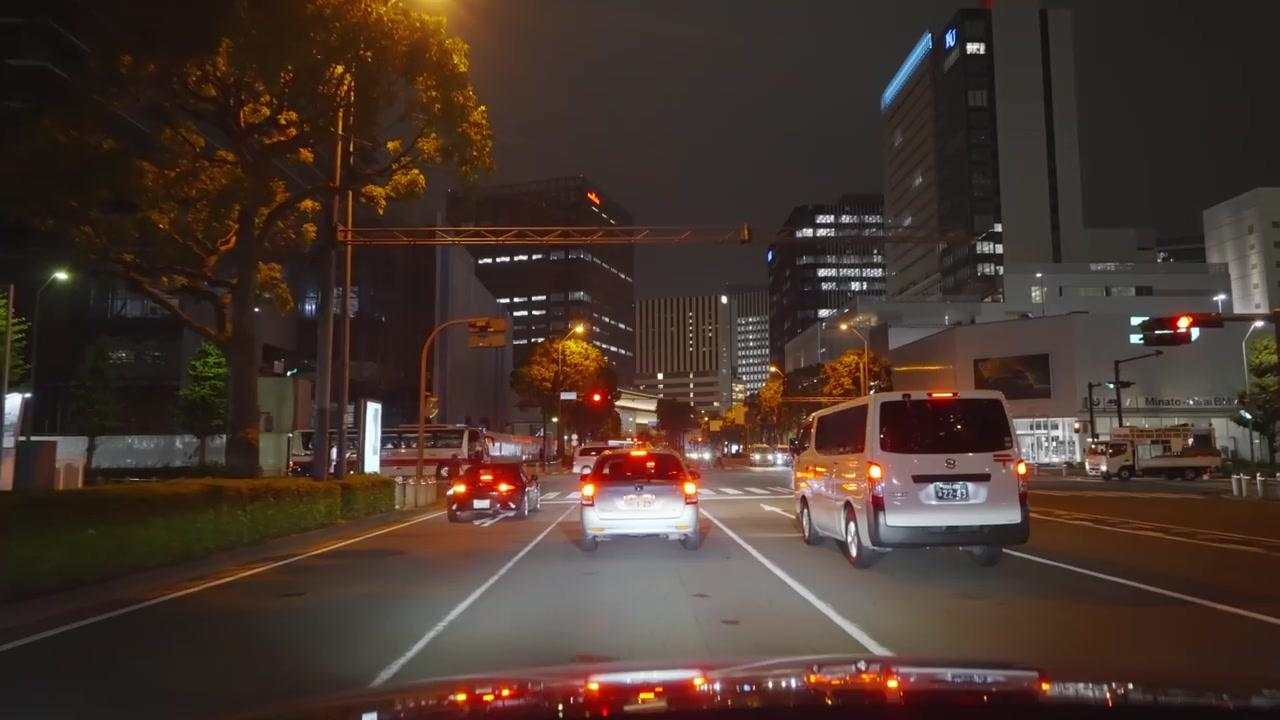bus: (380, 423, 490, 478)
car: (792, 389, 1032, 571), (578, 449, 708, 552), (446, 457, 543, 523), (287, 439, 360, 478), (573, 444, 609, 476), (684, 446, 715, 467)
traffic light: (1147, 315, 1196, 345), (469, 318, 511, 349), (590, 390, 607, 413)
truck: (1092, 426, 1223, 482)
